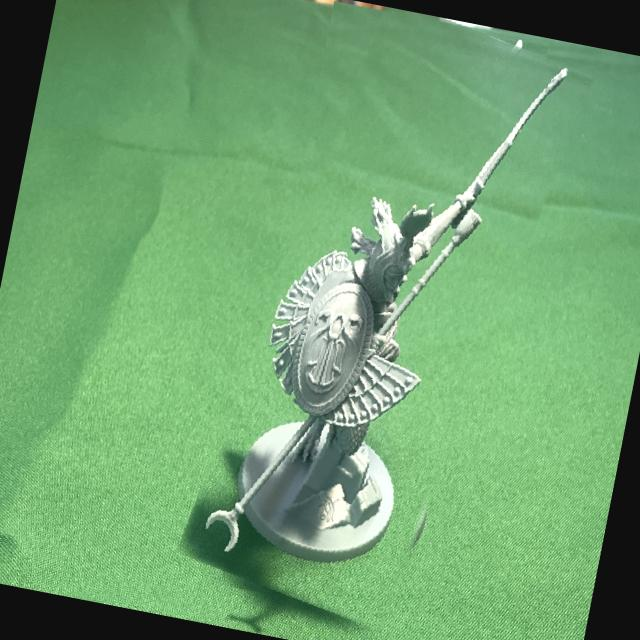isis: (194, 0, 573, 637)
